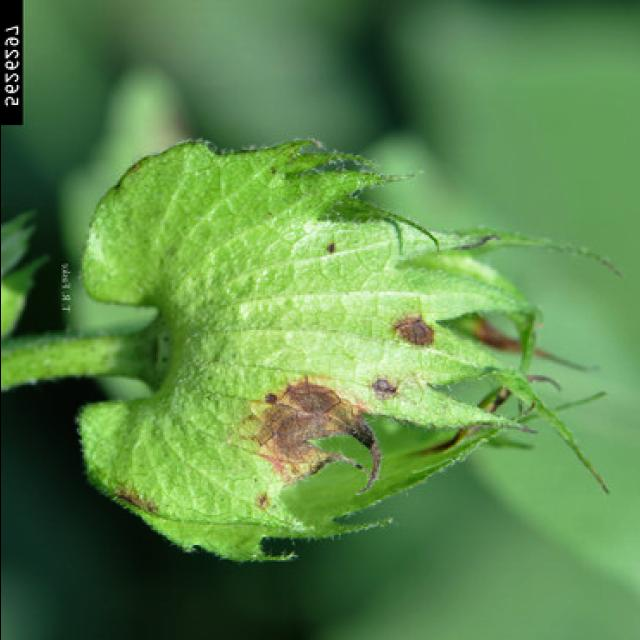Cotton Bud: (74, 125, 554, 563)
